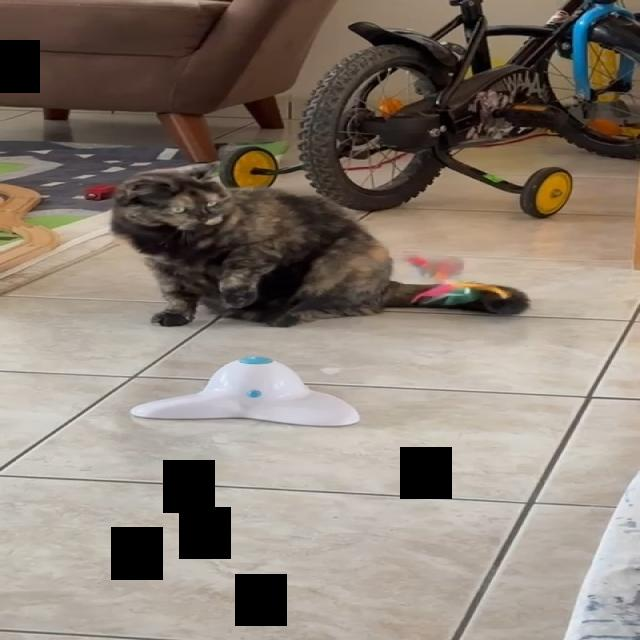authorized: (108, 160, 529, 328)
